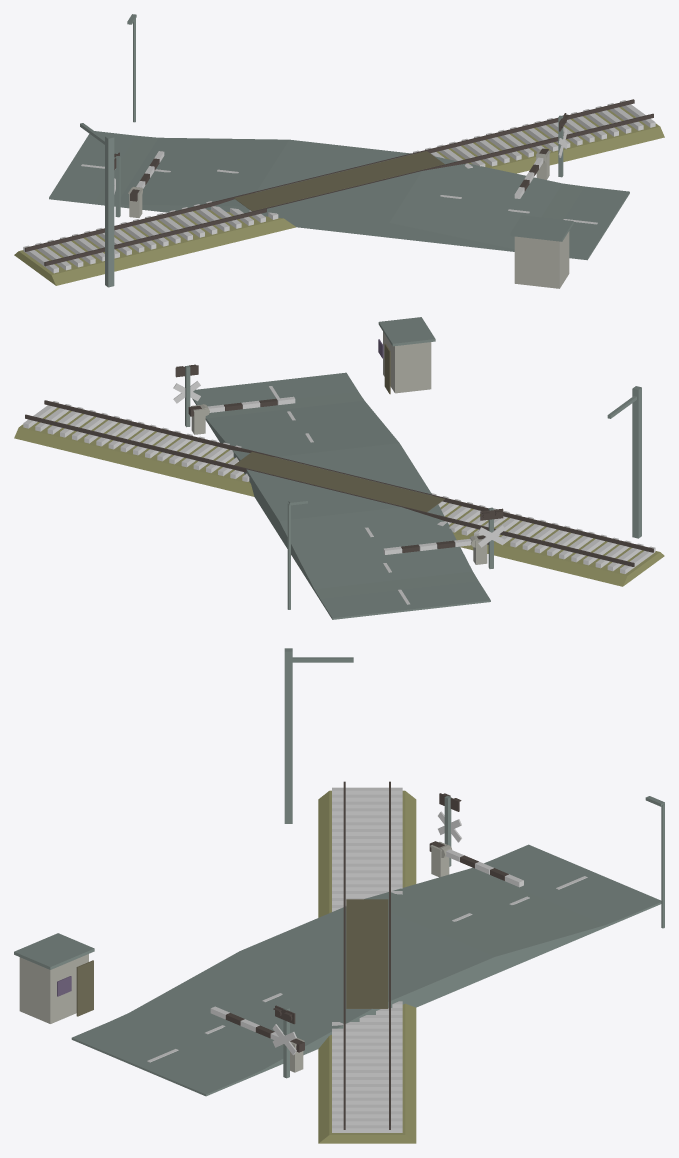
File: SM_PasoNivel_45_v4_Catenaria_LOD0.fbx
The picture shows the model from 3 angles, top to bottom: view 1: azimuth 30°, elevation 25°; view 2: azimuth 150°, elevation 25°; view 3: azimuth 270°, elevation 25°; orthographic projection. The views are drawn at different scales.
Visible parts, largest first — view 1: SM_paso_nivel_kit_v14_LOD0, Barrera_1, Barrera_2; view 2: SM_paso_nivel_kit_v14_LOD0, Barrera_1, Barrera_2; view 3: SM_paso_nivel_kit_v14_LOD0, Barrera_2, Barrera_1.
Boxes of the visible parts, x1,y1,x2,y2 form: SM_paso_nivel_kit_v14_LOD0: [14, 14, 664, 288]; Barrera_1: [514, 148, 548, 198]; Barrera_2: [130, 151, 164, 201]; SM_paso_nivel_kit_v14_LOD0: [14, 317, 664, 619]; Barrera_1: [188, 396, 295, 416]; Barrera_2: [383, 535, 488, 554]; SM_paso_nivel_kit_v14_LOD0: [14, 648, 664, 1143]; Barrera_2: [429, 841, 523, 887]; Barrera_1: [210, 1006, 304, 1052].
Size of the model in its own units: 30 by 7 by 23.97.
